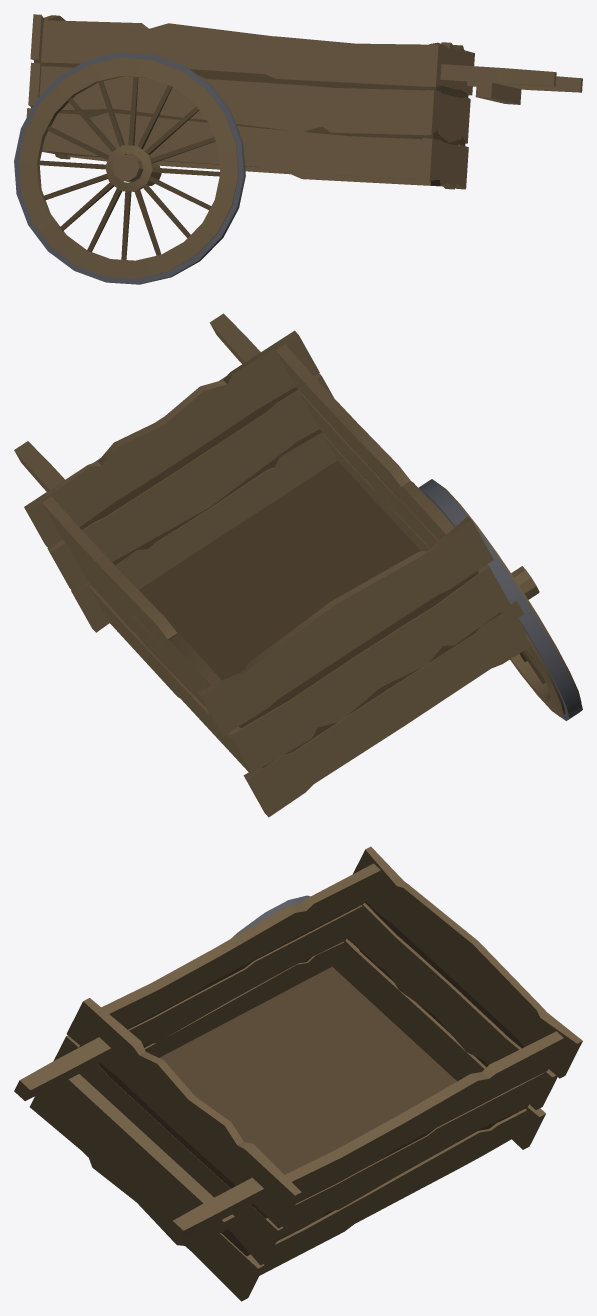
Rendered from quaternius-ultimate-modular-ruins-cart.glb.
3 views of the same model, one above another, from view 1: azimuth 30°, elevation 25°; view 2: azimuth 150°, elevation 25°; view 3: azimuth 270°, elevation 25° (orthographic). The views are drawn at different scales.
Parts seen in each view (by area): view 1: Cart; view 2: Cart; view 3: Cart.
Boxes of the visible parts, x1,y1,x2,y2 form: Cart: (14, 14, 582, 284); Cart: (14, 313, 582, 817); Cart: (14, 846, 582, 1301).
Bounding box in the file's own units: 3.31 × 1.38 × 2.83.
